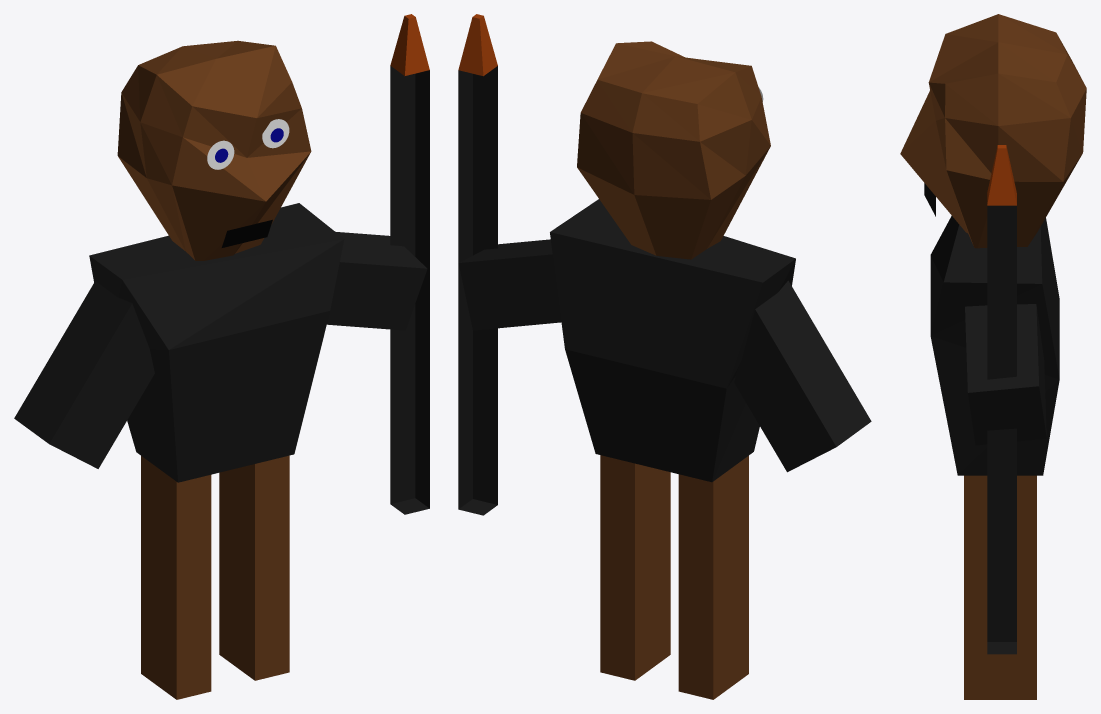
Rendered from spearman1.obj.
3 renders of one model, left to right at view 1: azimuth 30°, elevation 25°; view 2: azimuth 150°, elevation 25°; view 3: azimuth 270°, elevation 25°, orthographic. The views are drawn at different scales.
Visible parts, largest first — view 1: Cube.001, Cube, Cube.007, Cube.004, Cube.005, Cube.003, Cube.002, Plane; view 2: Cube.001, Cube, Cube.007, Cube.004, Cube.005, Cube.003, Cube.002; view 3: Cube, Cube.001, Cube.007, Cube.005, Cube.002.
Part boxes in pixels (x1,y1,x2,y2): Cube.001: (89, 203, 344, 482); Cube: (117, 40, 311, 260); Cube.007: (390, 14, 429, 514); Cube.004: (141, 456, 211, 699); Cube.005: (219, 455, 289, 680); Cube.003: (14, 281, 154, 468); Cube.002: (327, 231, 427, 330); Plane: (221, 219, 272, 247); Cube.001: (550, 199, 795, 482); Cube: (577, 41, 770, 259); Cube.007: (458, 14, 497, 515); Cube.004: (678, 455, 748, 699); Cube.005: (600, 455, 670, 680); Cube.003: (734, 280, 871, 472); Cube.002: (458, 239, 561, 330); Cube: (900, 14, 1086, 248); Cube.001: (930, 216, 1059, 475); Cube.007: (987, 145, 1016, 654); Cube.005: (964, 475, 1036, 699); Cube.002: (965, 304, 1046, 445).
Bounding box in the file's own units: 3.88 × 5.86 × 1.57.
